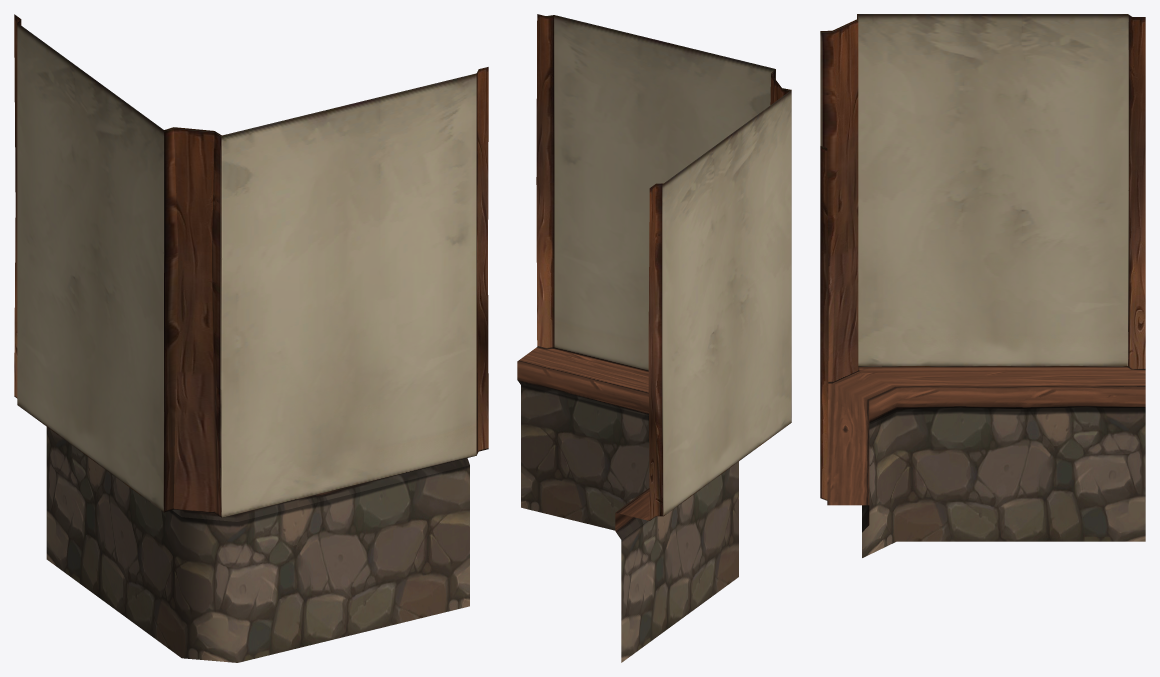
The model's file is Wall_2_Corner.fbx.
3 renders of one model, left to right at view 1: azimuth 30°, elevation 25°; view 2: azimuth 150°, elevation 25°; view 3: azimuth 270°, elevation 25°, orthographic. The views are drawn at different scales.
Visible parts, largest first — view 1: polySurface1; view 2: polySurface1; view 3: polySurface1.
Boxes of the visible parts, left/top/right/bottom form: polySurface1: left=14, top=14, right=488, bottom=662; polySurface1: left=517, top=14, right=791, bottom=662; polySurface1: left=820, top=14, right=1145, bottom=557.
Size of the model in its own units: 5.66 by 9.7 by 5.61.
